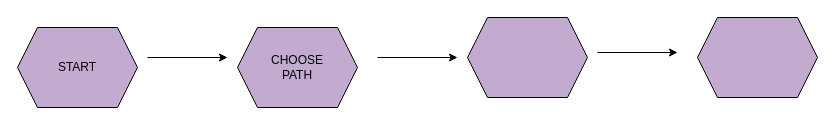
Some shapes in this 835 by 125 pixel diagram are drawn without their labels. The shapes that lost their labels are listed below. From the top down, each one's centre as x and y in pixels, then its label:
(x=527, y=57): THREE BRANCHES
(x=757, y=57): THREE ENDINGS
